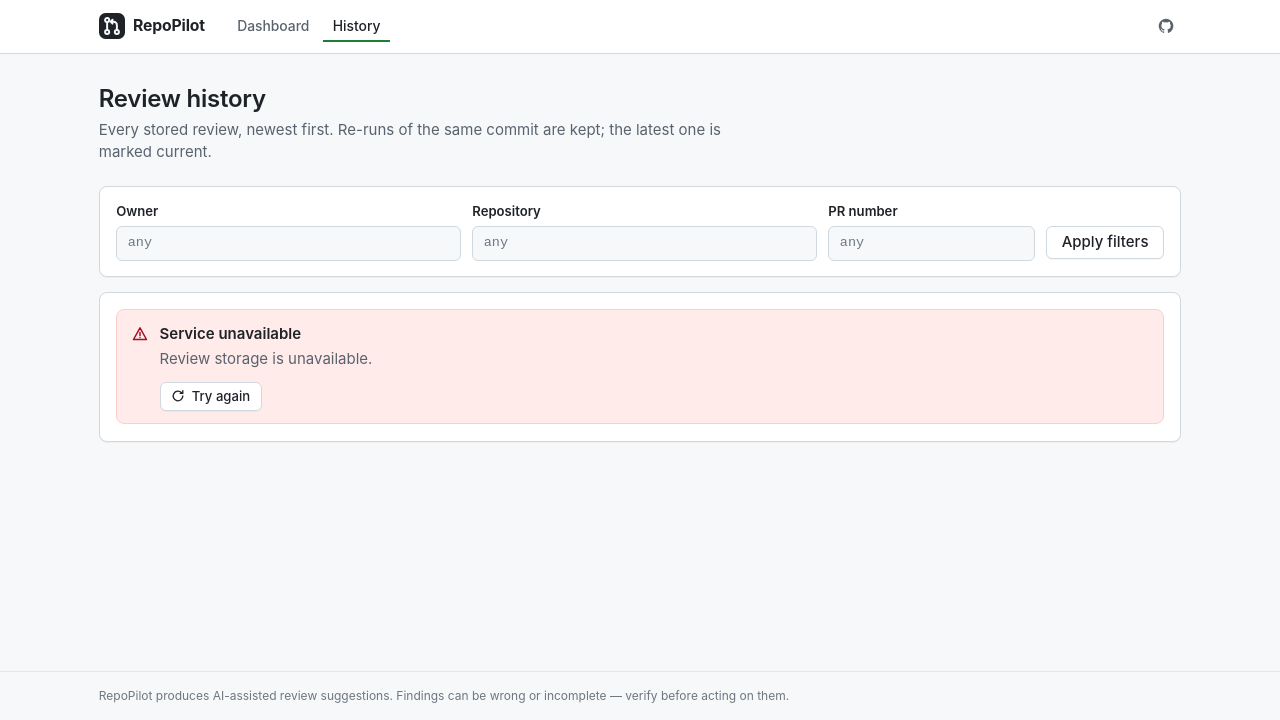
it: ReviewHistoryPage › shows API errors with a retry
Expected: the message shows "Review storage is unavailable.", x1=160 y1=349 x2=372 y2=368
What coordinates should you click on to do the following:
click the button "Try again"
I would click on:
 (211, 396)
Its box is x1=160 y1=382 x2=262 y2=411.
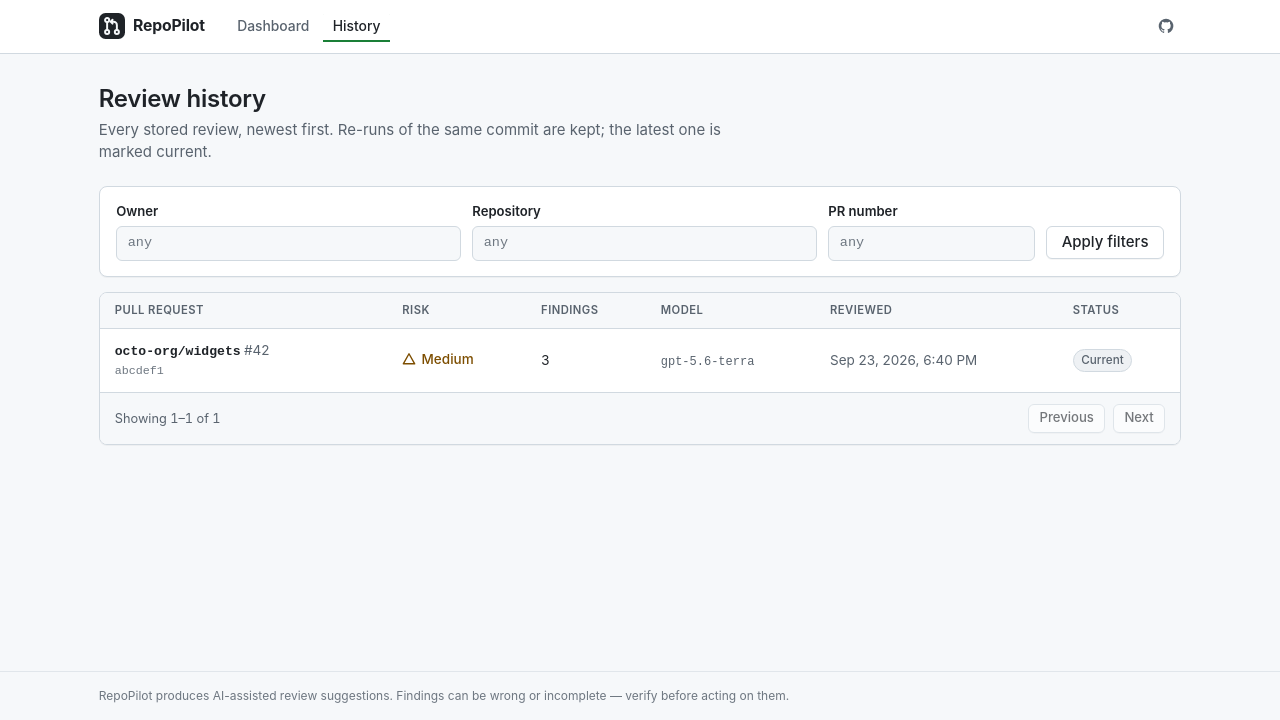
Now the table named "Stored reviews" is shown, box x1=100 y1=293 x2=1180 y2=392
